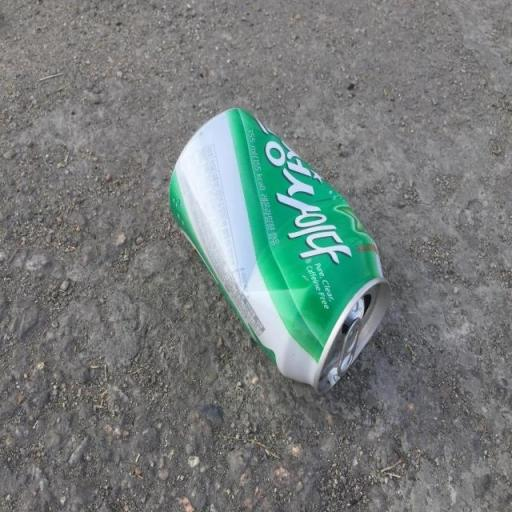metal: (110, 66, 429, 428)
